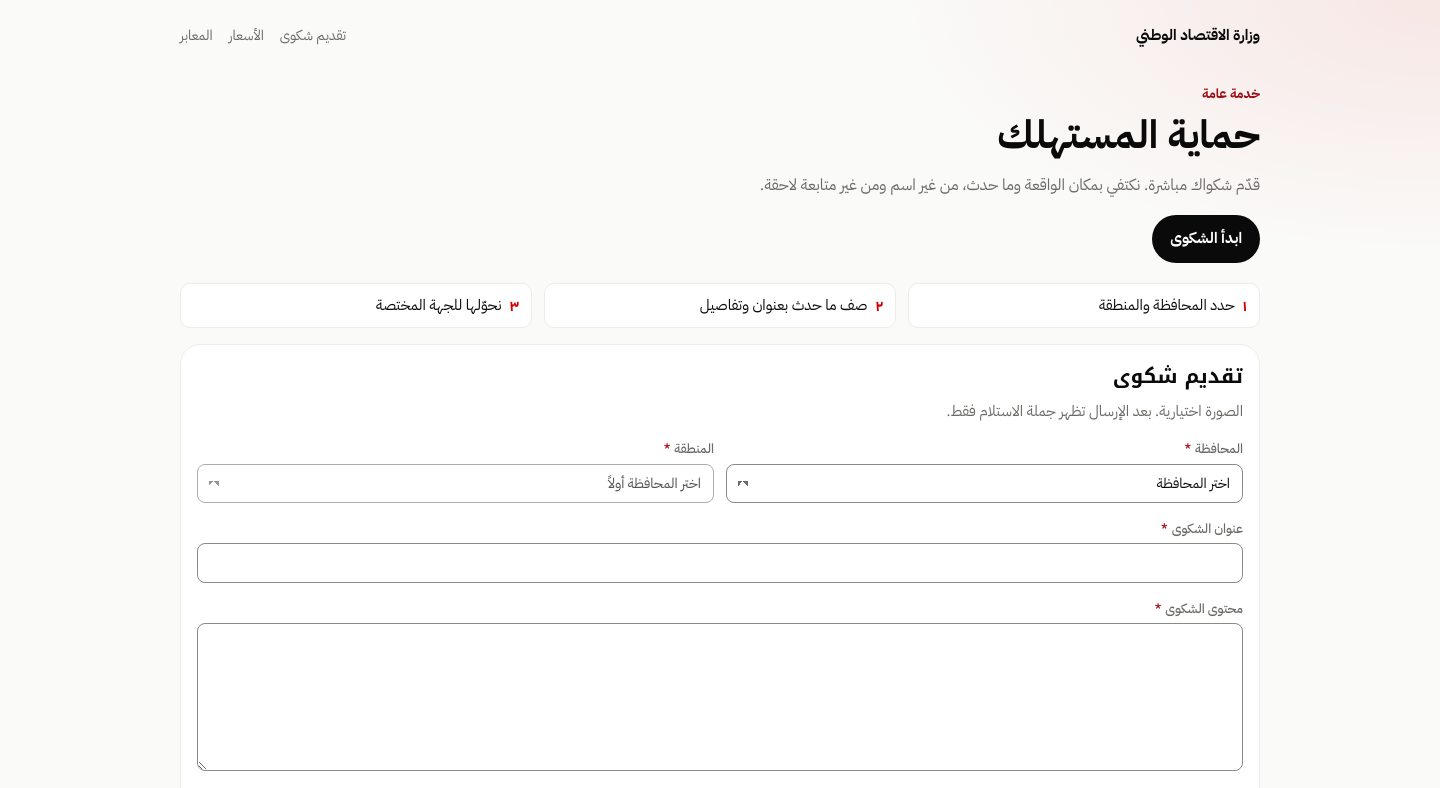
Test: public page › submits a public complaint as multipart and shows the receipt without a number
Select "محافظة تجريبية" in the dropdown labelled "المحافظة*" at (984, 483), box [726,464,1243,503]
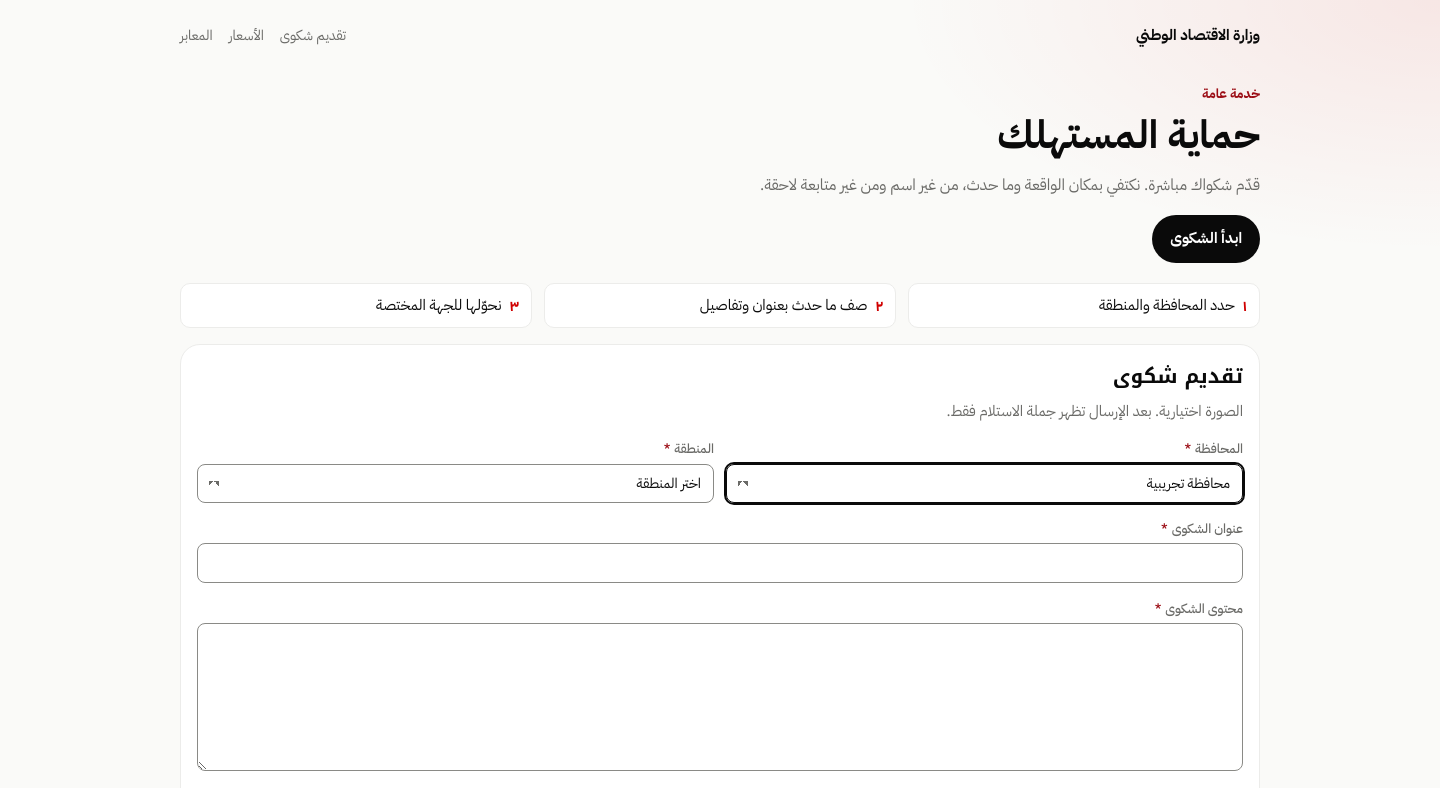
Select "المنطقة الأولى" in the dropdown labelled "المنطقة*" at (456, 483), box [197,464,714,503]
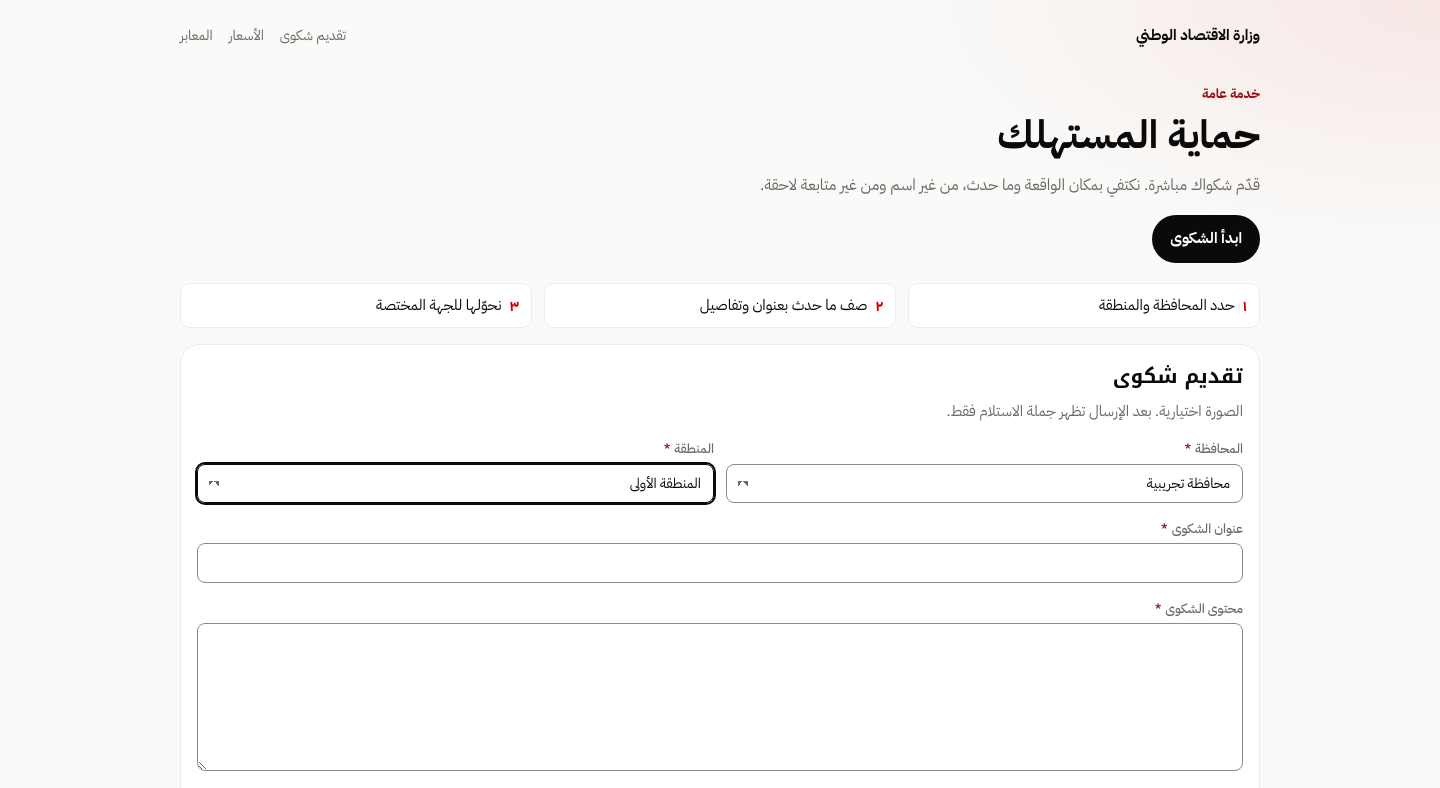
Type "سعر الخبز" into the field labelled "عنوان الشكوى*" at (720, 563), box [197,543,1243,583]
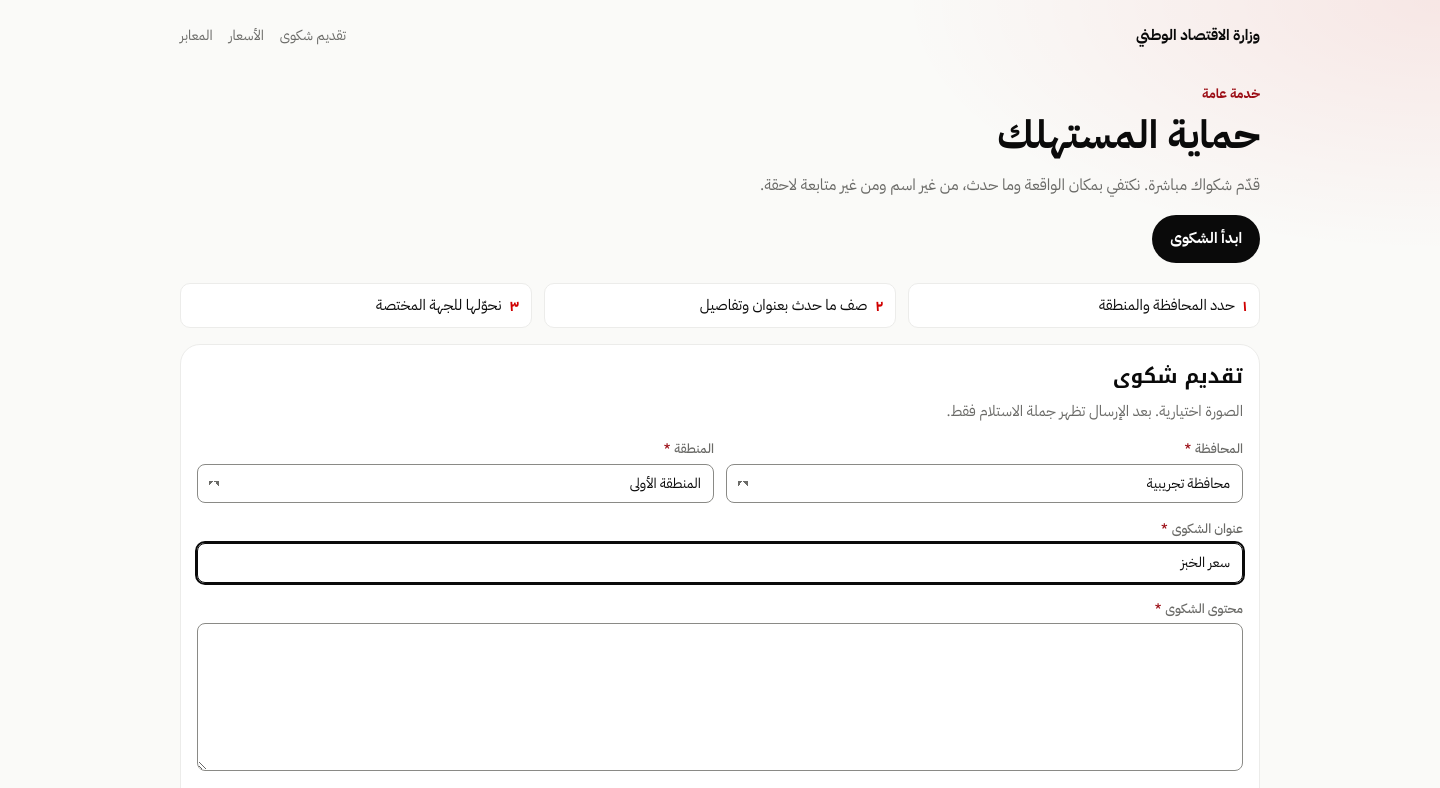
Type "البائع رفع السعر" into the text box labelled "محتوى الشكوى*" at (720, 697), box [197,623,1243,771]
(page scrolled)
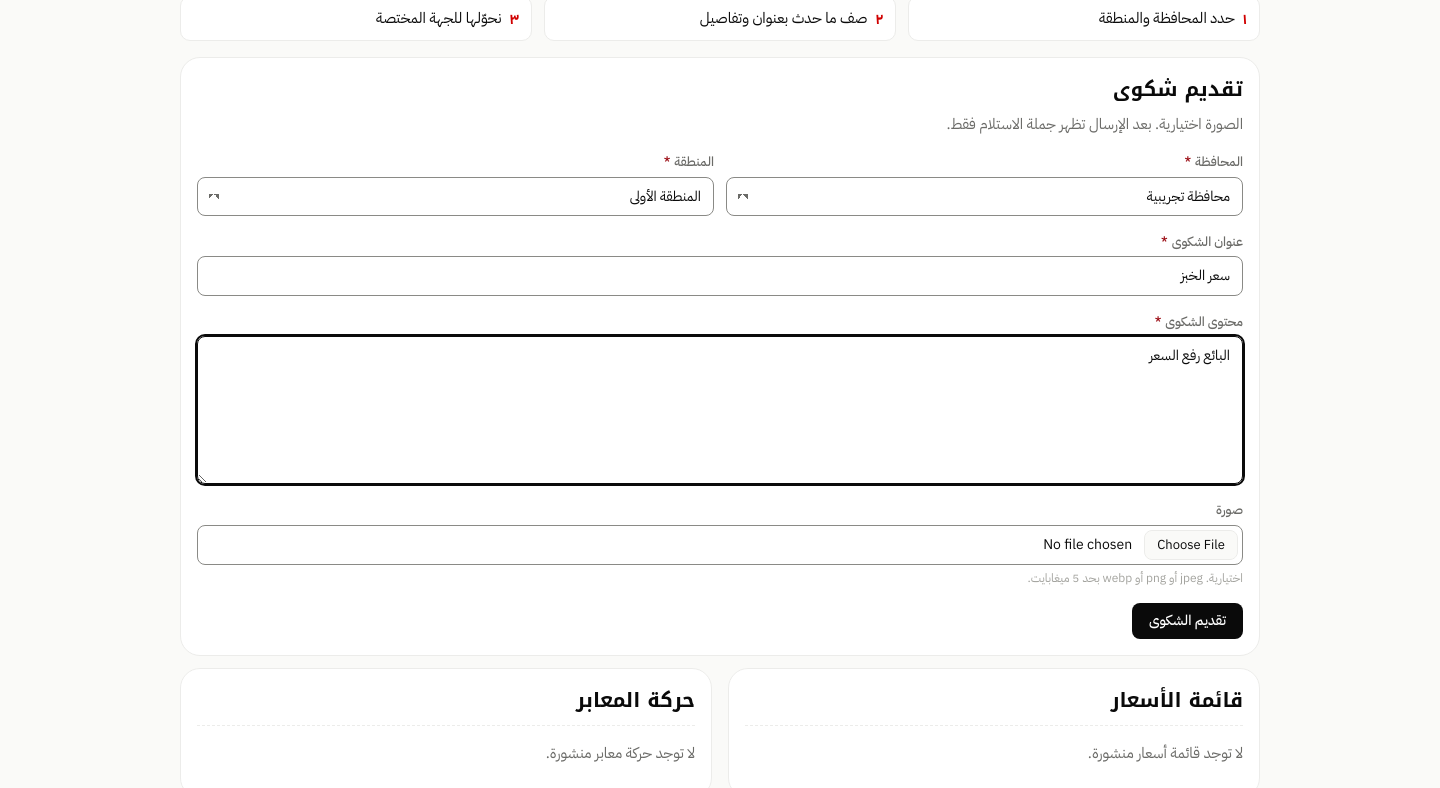
Click the button "تقديم الشكوى" at (1187, 621), box [1132,603,1243,639]
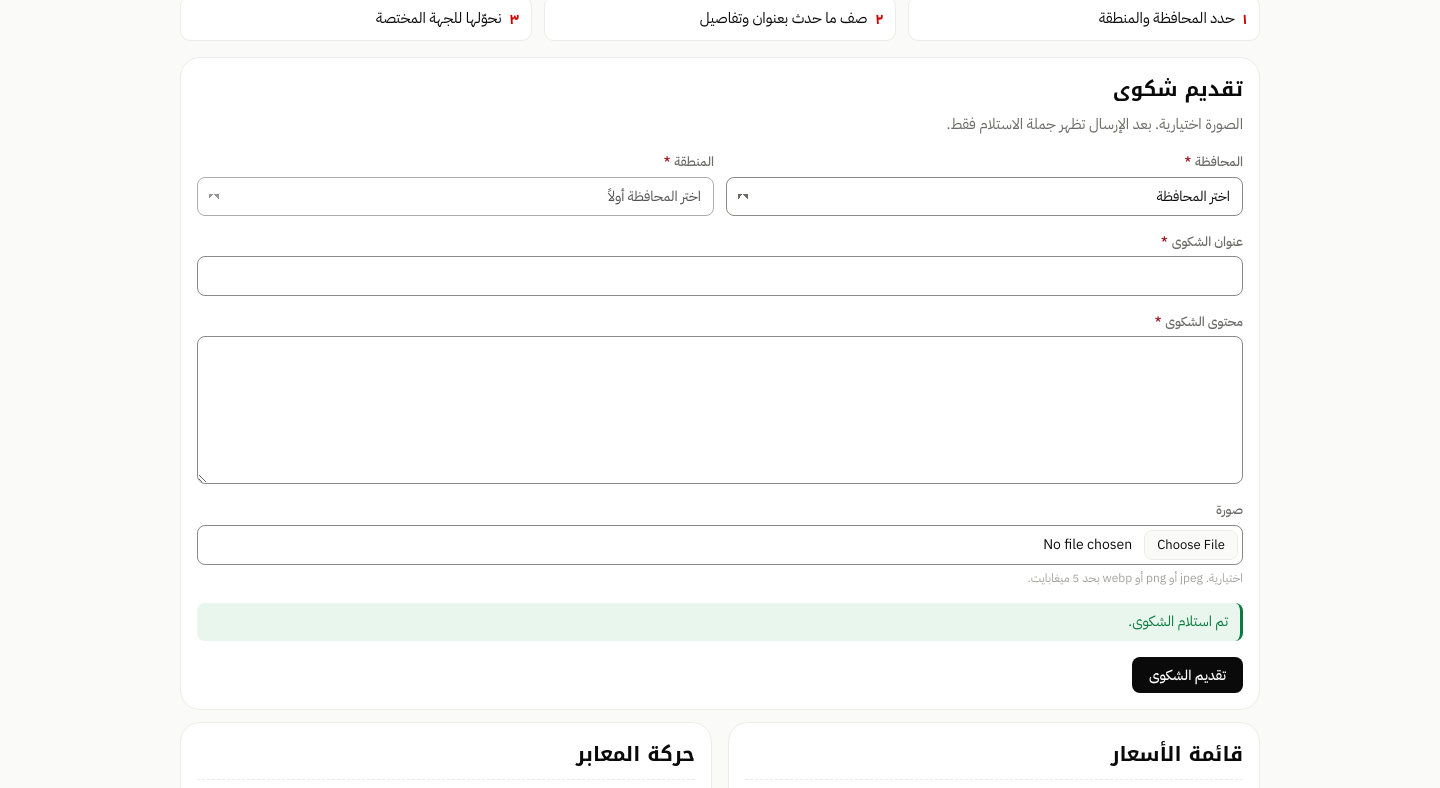
Result: the text "تم استلام الشكوى." is shown at [197,603,1243,641]
